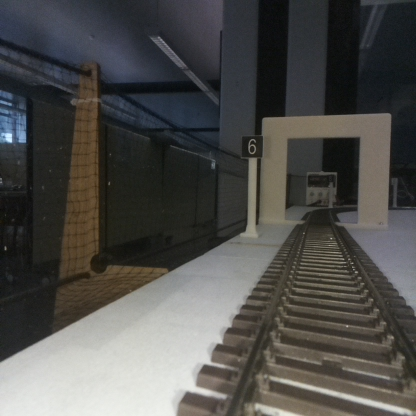black-info-6: (242, 135, 262, 237)
